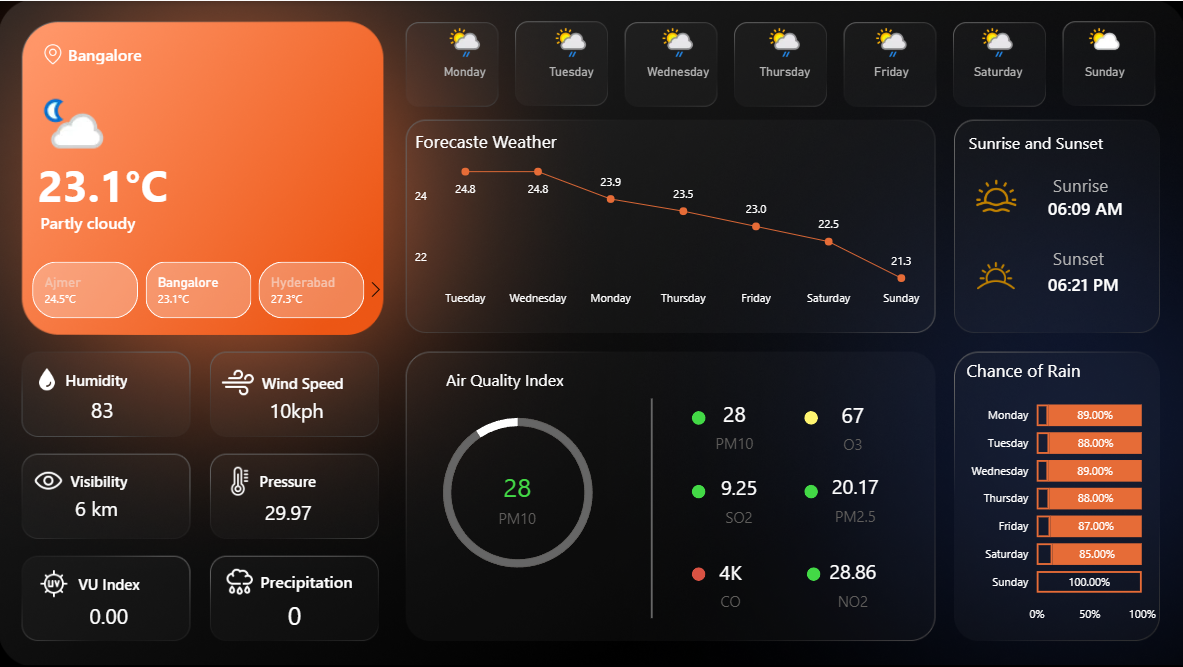

The page's visual inventory and layout, read from the dashboard file:
{"tool":"powerbi","page":{"name":"Page 1","canvas":[1280,720],"ordinal":0},"visuals":[{"type":"advancedSlicerVisual","fields":{"Values":["Locations.location.name"]},"box":[12.3,275.8,410.3,71.4],"z":0},{"type":"shape","box":[45.3,197.6,157.8,82.3],"z":1000},{"type":"shape","box":[75.5,16.5,174.3,82.3],"z":2000},{"type":"image","box":[32.9,41.2,53.5,31.6],"z":3000},{"type":"cardVisual","fields":{"Data":["Min(Current.current.condition.icon)"]},"box":[13.7,83.7,124.9,96.1],"z":4000},{"type":"image","box":[32.9,491.3,43.9,50.8],"z":5000},{"type":"shape","box":[15.1,496.7,188,41.2],"z":6000},{"type":"image","box":[32.9,391.1,41.2,34.3],"z":7000},{"type":"shape","box":[12.3,388.3,188,41.2],"z":8000},{"type":"image","box":[38.4,607.9,42.5,41.2],"z":9000},{"type":"shape","box":[26.1,607.9,188,41.2],"z":10000},{"type":"image","box":[238.8,602.4,43.9,46.7],"z":11000},{"type":"shape","box":[238.8,605.1,188,41.2],"z":12000},{"type":"image","box":[238.8,496.7,43.9,41.2],"z":13000},{"type":"shape","box":[218.2,496.7,188,41.2],"z":14000},{"type":"image","box":[234.6,388.3,48,46.7],"z":15000},{"type":"shape","box":[234.6,391.1,188,41.2],"z":16000},{"type":"card","fields":{"Values":["Sum(Current.current.humidity)"]},"box":[61.7,425.4,101.5,32.9],"z":17000},{"type":"card","fields":{"Values":["Sum(Current.current.pressure_in)"]},"box":[253.9,532.4,119.4,41.2],"z":18000},{"type":"card","fields":{"Values":["Sum(Current.current.precip_in)"]},"box":[260.7,643.6,119.4,39.8],"z":19000},{"type":"card","fields":{"Values":["Sum(Current.current.uv)"]},"box":[60.4,643.6,118,39.8],"z":20000},{"type":"card","fields":{"Values":["select"]},"box":[270.3,425.4,101.5,32.9],"z":21000},{"type":"advancedSlicerVisual","fields":{"Values":["Forecaste_Day.Day_Name"]},"box":[444.3,17.1,808.6,95.7],"z":22000},{"type":"lineChart","title":"Forecaste Weather","fields":{"Category":["Forecaste_Day.Day_Name"],"Y":["Sum(Forecaste_Day.forecast.forecastday.day.avgtemp_c)"]},"box":[444.3,138.6,565.7,200],"z":23000},{"type":"shape","box":[1025.7,131.4,187.1,41.4],"z":24000},{"type":"shape","box":[1137.1,165.7,75.7,64.3],"z":25000},{"type":"shape","box":[1137.1,251.4,65.7,50],"z":26000},{"type":"shape","box":[1131.4,197.1,81.4,54.3],"z":27000},{"type":"shape","box":[1131.4,280,85.7,48.6],"z":28000},{"type":"image","box":[1038.6,264.3,74.3,64.3],"z":29000},{"type":"image","box":[1050,180,52.9,58.6],"z":30000},{"type":"hundredPercentStackedBarChart","title":"Chance of Rain","fields":{"Y":["Current.Left_value_Rain","Sum(Forecaste_Day.forecast.forecastday.day.daily_chance_of_rain)"],"Category":["Forecaste_Day.Day_Name"]},"box":[1038.6,385.7,214.3,294.3],"z":31000},{"type":"shape","box":[452.9,387.1,187.1,41.4],"z":32000},{"type":"card","fields":{"Values":["Sum(Current.current.air_quality.pm10)"]},"box":[727.1,422.9,132.9,68.6],"z":33000},{"type":"card","fields":{"Values":["Sum(Forecaste_Day.forecast.forecastday.day.air_quality.co)"]},"box":[737.1,597.1,105.7,62.9],"z":34000},{"type":"card","fields":{"Values":["Sum(Current.current.air_quality.o3)"]},"box":[873.3,423.2,97,70.1],"z":35000},{"type":"card","fields":{"Values":["Sum(Current.current.air_quality.so2)"]},"box":[756,502.7,86.3,68.7],"z":36000},{"type":"card","fields":{"Values":["Sum(Current.current.air_quality.no2)"]},"box":[877.3,593,88.9,70.1],"z":37000},{"type":"card","fields":{"Values":["Sum(Current.current.air_quality.pm2_5)"]},"box":[876,501.3,97,70.1],"z":38000},{"type":"shape","box":[747.9,442,15,15],"z":39000},{"type":"shape","box":[42.9,152.9,190,90],"z":40000},{"type":"card","fields":{"Values":["_Measures.Wind_Speed"]},"box":[270.9,425.9,102.4,33.7],"z":41000},{"type":"card","fields":{"Values":["_Measures.Visibility"]},"box":[55.3,532.3,102.4,33.7],"z":42000},{"type":"shape","box":[747.9,610.5,14.8,14.8],"z":43000},{"type":"shape","box":[747.9,521.5,14.8,14.8],"z":44000},{"type":"shape","box":[869.2,521.5,14.8,14.8],"z":45000},{"type":"shape","box":[869.2,442,14.8,14.8],"z":46000},{"type":"shape","box":[871.9,610.5,14.8,14.8],"z":47000},{"type":"shape","box":[661.7,428.6,86.3,237.2],"z":48000},{"type":"card","fields":{"Values":["Sum(Current.current.air_quality.pm10)"]},"box":[493.2,501.3,133.4,68.7],"z":49000},{"type":"donutChart","fields":{"Y":["_Measures.Left_value_PM10","Sum(Current.current.air_quality.pm10)"]},"box":[431.3,424.5,258.8,211.6],"z":50000}]}

Visuals, with their boxes in screenshot pixels (x1, y1, x2, y2), scaled from the page's 1280x720 canvas onto the 1183x667 screenshot:
advancedSlicerVisual - Locations.location.name: pyautogui.locateOnScreen(11, 255, 391, 322)
shape: pyautogui.locateOnScreen(42, 183, 188, 259)
shape: pyautogui.locateOnScreen(70, 15, 231, 92)
image: pyautogui.locateOnScreen(30, 38, 80, 67)
cardVisual - Min(Current.current.condition.icon): pyautogui.locateOnScreen(13, 78, 128, 167)
image: pyautogui.locateOnScreen(30, 455, 71, 502)
shape: pyautogui.locateOnScreen(14, 460, 188, 498)
image: pyautogui.locateOnScreen(30, 362, 68, 394)
shape: pyautogui.locateOnScreen(11, 360, 185, 398)
image: pyautogui.locateOnScreen(35, 563, 75, 601)
shape: pyautogui.locateOnScreen(24, 563, 198, 601)
image: pyautogui.locateOnScreen(221, 558, 261, 601)
shape: pyautogui.locateOnScreen(221, 561, 394, 599)
image: pyautogui.locateOnScreen(221, 460, 261, 498)
shape: pyautogui.locateOnScreen(202, 460, 375, 498)
image: pyautogui.locateOnScreen(217, 360, 261, 403)
shape: pyautogui.locateOnScreen(217, 362, 391, 400)
card - Sum(Current.current.humidity): pyautogui.locateOnScreen(57, 394, 151, 425)
card - Sum(Current.current.pressure_in): pyautogui.locateOnScreen(235, 493, 345, 531)
card - Sum(Current.current.precip_in): pyautogui.locateOnScreen(241, 596, 351, 633)
card - Sum(Current.current.uv): pyautogui.locateOnScreen(56, 596, 165, 633)
card - select: pyautogui.locateOnScreen(250, 394, 344, 425)
advancedSlicerVisual - Forecaste_Day.Day_Name: pyautogui.locateOnScreen(411, 16, 1158, 104)
"Forecaste Weather" lineChart: pyautogui.locateOnScreen(411, 128, 933, 314)
shape: pyautogui.locateOnScreen(948, 122, 1121, 160)
shape: pyautogui.locateOnScreen(1051, 154, 1121, 213)
shape: pyautogui.locateOnScreen(1051, 233, 1112, 279)
shape: pyautogui.locateOnScreen(1046, 183, 1121, 233)
shape: pyautogui.locateOnScreen(1046, 259, 1125, 304)
image: pyautogui.locateOnScreen(960, 245, 1029, 304)
image: pyautogui.locateOnScreen(970, 167, 1019, 221)
"Chance of Rain" hundredPercentStackedBarChart: pyautogui.locateOnScreen(960, 357, 1158, 630)
shape: pyautogui.locateOnScreen(419, 359, 592, 397)
card - Sum(Current.current.air_quality.pm10): pyautogui.locateOnScreen(672, 392, 795, 455)
card - Sum(Forecaste_Day.forecast.forecastday.day.air_quality.co): pyautogui.locateOnScreen(681, 553, 779, 611)
card - Sum(Current.current.air_quality.o3): pyautogui.locateOnScreen(807, 392, 897, 457)
card - Sum(Current.current.air_quality.so2): pyautogui.locateOnScreen(699, 466, 778, 529)
card - Sum(Current.current.air_quality.no2): pyautogui.locateOnScreen(811, 549, 893, 614)
card - Sum(Current.current.air_quality.pm2_5): pyautogui.locateOnScreen(810, 464, 899, 529)
shape: pyautogui.locateOnScreen(691, 409, 705, 423)
shape: pyautogui.locateOnScreen(40, 142, 215, 225)
card - _Measures.Wind_Speed: pyautogui.locateOnScreen(250, 395, 345, 426)
card - _Measures.Visibility: pyautogui.locateOnScreen(51, 493, 146, 524)
shape: pyautogui.locateOnScreen(691, 566, 705, 579)
shape: pyautogui.locateOnScreen(691, 483, 705, 497)
shape: pyautogui.locateOnScreen(803, 483, 817, 497)
shape: pyautogui.locateOnScreen(803, 409, 817, 423)
shape: pyautogui.locateOnScreen(806, 566, 820, 579)
shape: pyautogui.locateOnScreen(612, 397, 691, 617)
card - Sum(Current.current.air_quality.pm10): pyautogui.locateOnScreen(456, 464, 579, 528)
donutChart - _Measures.Left_value_PM10 x Sum(Current.current.air_quality.pm10): pyautogui.locateOnScreen(399, 393, 638, 589)
